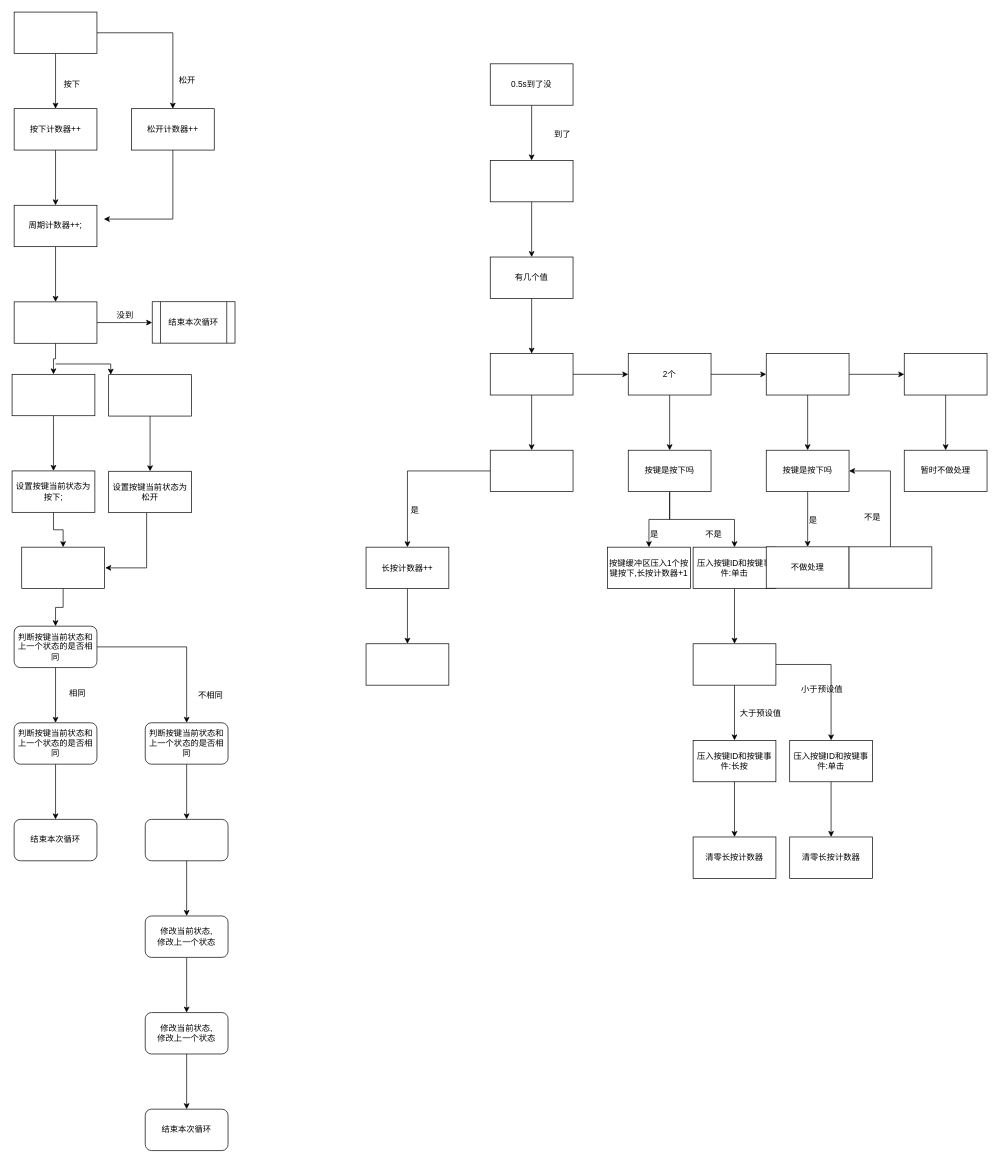
The diagram is 999 pixels wide and 1163 high, and some of its shapes have lost their labels. Here are the shapes that lost their labels. From the top down, the box of each, then its label:
(13, 11, 97, 53): 获取按键状态
(490, 160, 573, 202): 清零时间; 把按键缓冲区的值读出来
(13, 301, 97, 343): 周期到了吗?
(490, 353, 573, 395): 1个
(766, 353, 849, 395): 4个
(904, 353, 987, 395): 其他
(11, 374, 95, 416): 按下计数器不为0; 松开计数器为0;
(108, 374, 191, 416): 按下计数器为0; 松开计数器不为0;
(490, 450, 573, 492): 键值是按下吗?
(21, 546, 105, 589): 清零按下计数器; 清零松开计数器; 清零周期计数器;
(848, 546, 932, 588): 压入按键ID和按键事件:双击
(365, 643, 449, 685): 按键缓冲区压入1个按键按下
(692, 643, 776, 685): 判断长按计数器
(145, 819, 228, 861): 把当前状态压入事件区
